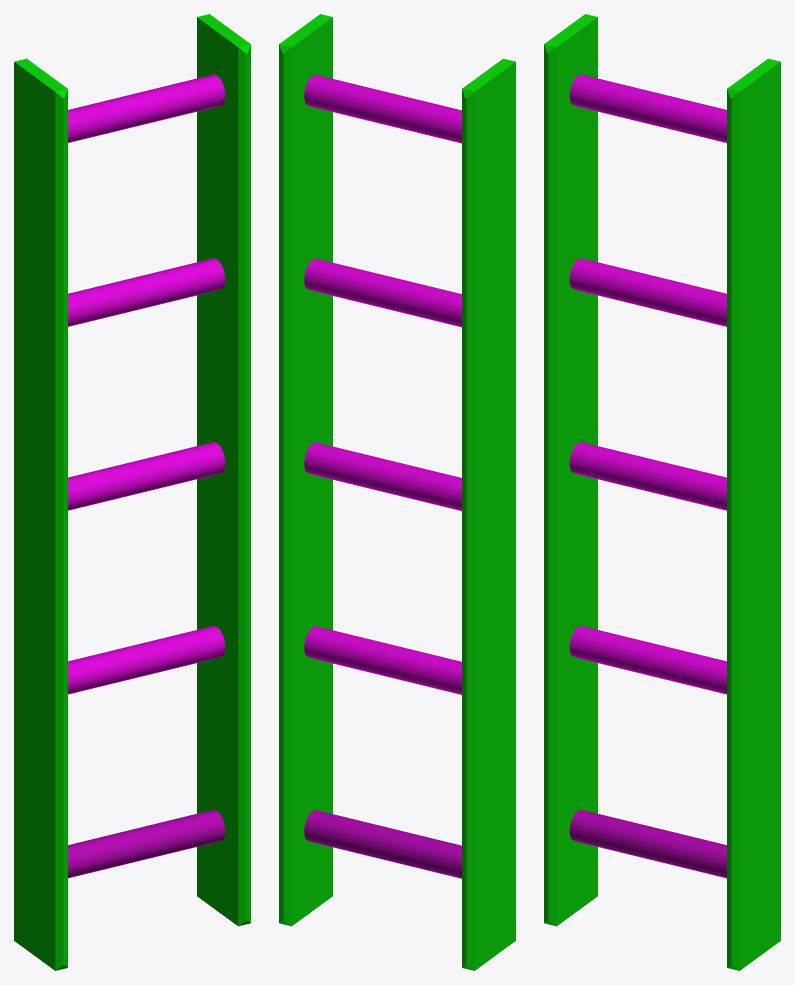
File: lowpoly_Ladder.fbx
3 views of the same model, side by side, from view 1: azimuth 30°, elevation 25°; view 2: azimuth 150°, elevation 25°; view 3: azimuth 330°, elevation 25° (orthographic).
Visible parts, largest first — view 1: LP_Ladder; view 2: LP_Ladder; view 3: LP_Ladder.
Part boxes in pixels (box(x1,y1,x2,y2)): LP_Ladder: box(14, 14, 250, 970); LP_Ladder: box(279, 14, 515, 970); LP_Ladder: box(544, 14, 780, 970).
Size of the model in its own units: 66.27 by 285 by 27.06.
